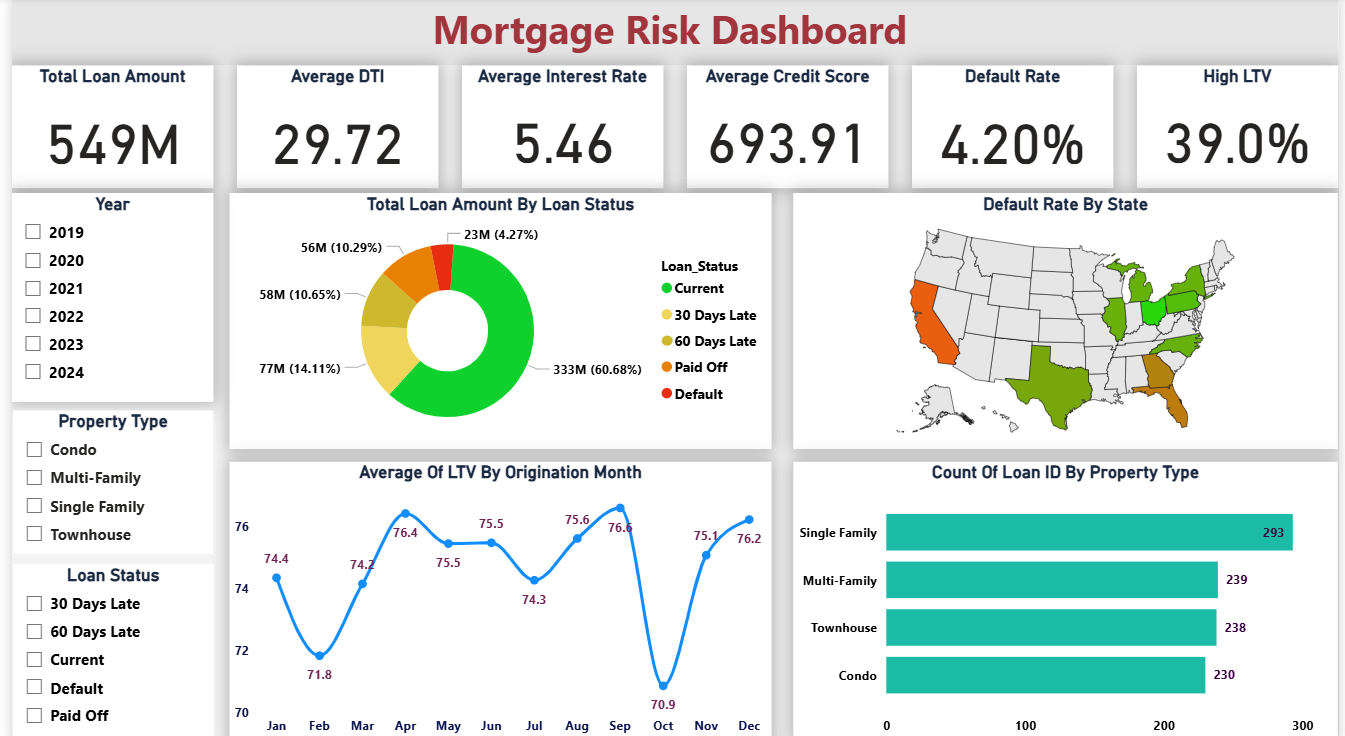

The page's visual inventory and layout, read from the dashboard file:
{"tool":"powerbi","page":{"name":"Page 1","canvas":[1280,720],"ordinal":0},"visuals":[{"type":"textbox","box":[0,0,1280.3,64.8],"z":0},{"type":"card","title":"Total Loan Amount","fields":{"Values":["Measure Table.Total_Loan_Application"]},"box":[0,64.8,194.4,118.6],"z":1000},{"type":"card","title":"Average DTI","fields":{"Values":["Measure Table.Avg_DTI"]},"box":[217.2,64.8,194.4,118.6],"z":2000},{"type":"card","title":"Average Interest Rate","fields":{"Values":["Measure Table.Avg_Intrest_Rate"]},"box":[434.5,65.1,194.2,118.2],"z":3000},{"type":"card","title":"Average Credit Score","fields":{"Values":["Measure Table.Avg_Credit_Score"]},"box":[651.5,65.1,194.2,118.2],"z":4000},{"type":"card","title":"Default Rate","fields":{"Values":["Measure Table.Default_Rate"]},"box":[868.6,64.8,194.4,118.6],"z":5000},{"type":"card","title":"High LTV","fields":{"Values":["Measure Table.High_LTV%"]},"box":[1085.8,65.1,194.2,118.2],"z":6000},{"type":"donutChart","title":"Total Loan Amount By Loan Status","fields":{"Category":["Mortgage_Loan_Data.Loan_Status"],"Y":["Measure Table.Total_Loan_Amount"]},"box":[210.3,188.3,523.4,247],"z":7000},{"type":"shapeMap","title":"Default Rate By State","fields":{"Category":["Mortgage_Loan_Data.State"],"Value":["Measure Table.Default_Rate"]},"box":[754.5,188.3,525.8,247],"z":8000},{"type":"lineChart","title":"Average Of LTV By Origination Month","fields":{"Category":["CalendarTable.Month Name"],"Y":["Avg(Mortgage_Loan_Data.LTV)"]},"box":[210.3,447.6,523.4,272.7],"z":9000},{"type":"barChart","title":"Count Of Loan ID By Property Type","fields":{"Category":["Mortgage_Loan_Data.Property_Type"],"Y":["CountNonNull(Mortgage_Loan_Data.Loan_ID)"]},"box":[754.5,447.6,525.8,272.7],"z":10000},{"type":"slicer","fields":{"Values":["CalendarTable.Year"]},"box":[0,188.2,194.2,201.5],"z":11000},{"type":"slicer","fields":{"Values":["Mortgage_Loan_Data.Property_Type"]},"box":[1.2,398.1,193,138.7],"z":12000},{"type":"slicer","fields":{"Values":["Mortgage_Loan_Data.Loan_Status"]},"box":[1.2,546.6,193.2,173.6],"z":13000}]}

Visuals, with their boxes in screenshot pixels (x1, y1, x2, y2), scaled from the page's 1280x720 canvas onto the 1345x736 screenshot:
textbox: crop(0, 0, 1344, 66)
"Total Loan Amount" card: crop(0, 66, 204, 187)
"Average DTI" card: crop(228, 66, 433, 187)
"Average Interest Rate" card: crop(457, 67, 661, 187)
"Average Credit Score" card: crop(685, 67, 889, 187)
"Default Rate" card: crop(913, 66, 1117, 187)
"High LTV" card: crop(1141, 67, 1344, 187)
"Total Loan Amount By Loan Status" donutChart: crop(221, 192, 771, 445)
"Default Rate By State" shapeMap: crop(793, 192, 1344, 445)
"Average Of LTV By Origination Month" lineChart: crop(221, 458, 771, 735)
"Count Of Loan ID By Property Type" barChart: crop(793, 458, 1344, 735)
slicer - CalendarTable.Year: crop(0, 192, 204, 398)
slicer - Mortgage_Loan_Data.Property_Type: crop(1, 407, 204, 549)
slicer - Mortgage_Loan_Data.Loan_Status: crop(1, 559, 204, 735)
